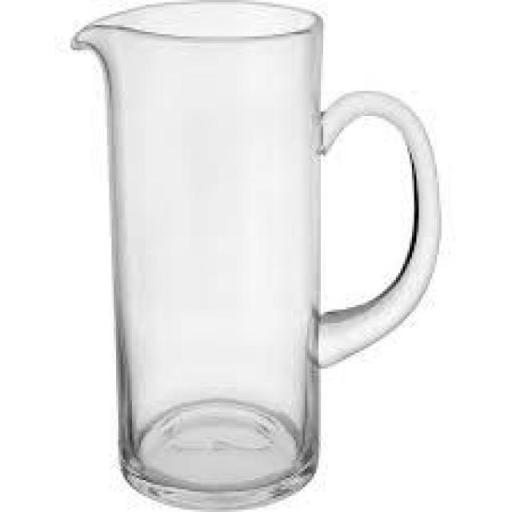glass: (48, 0, 463, 512)
